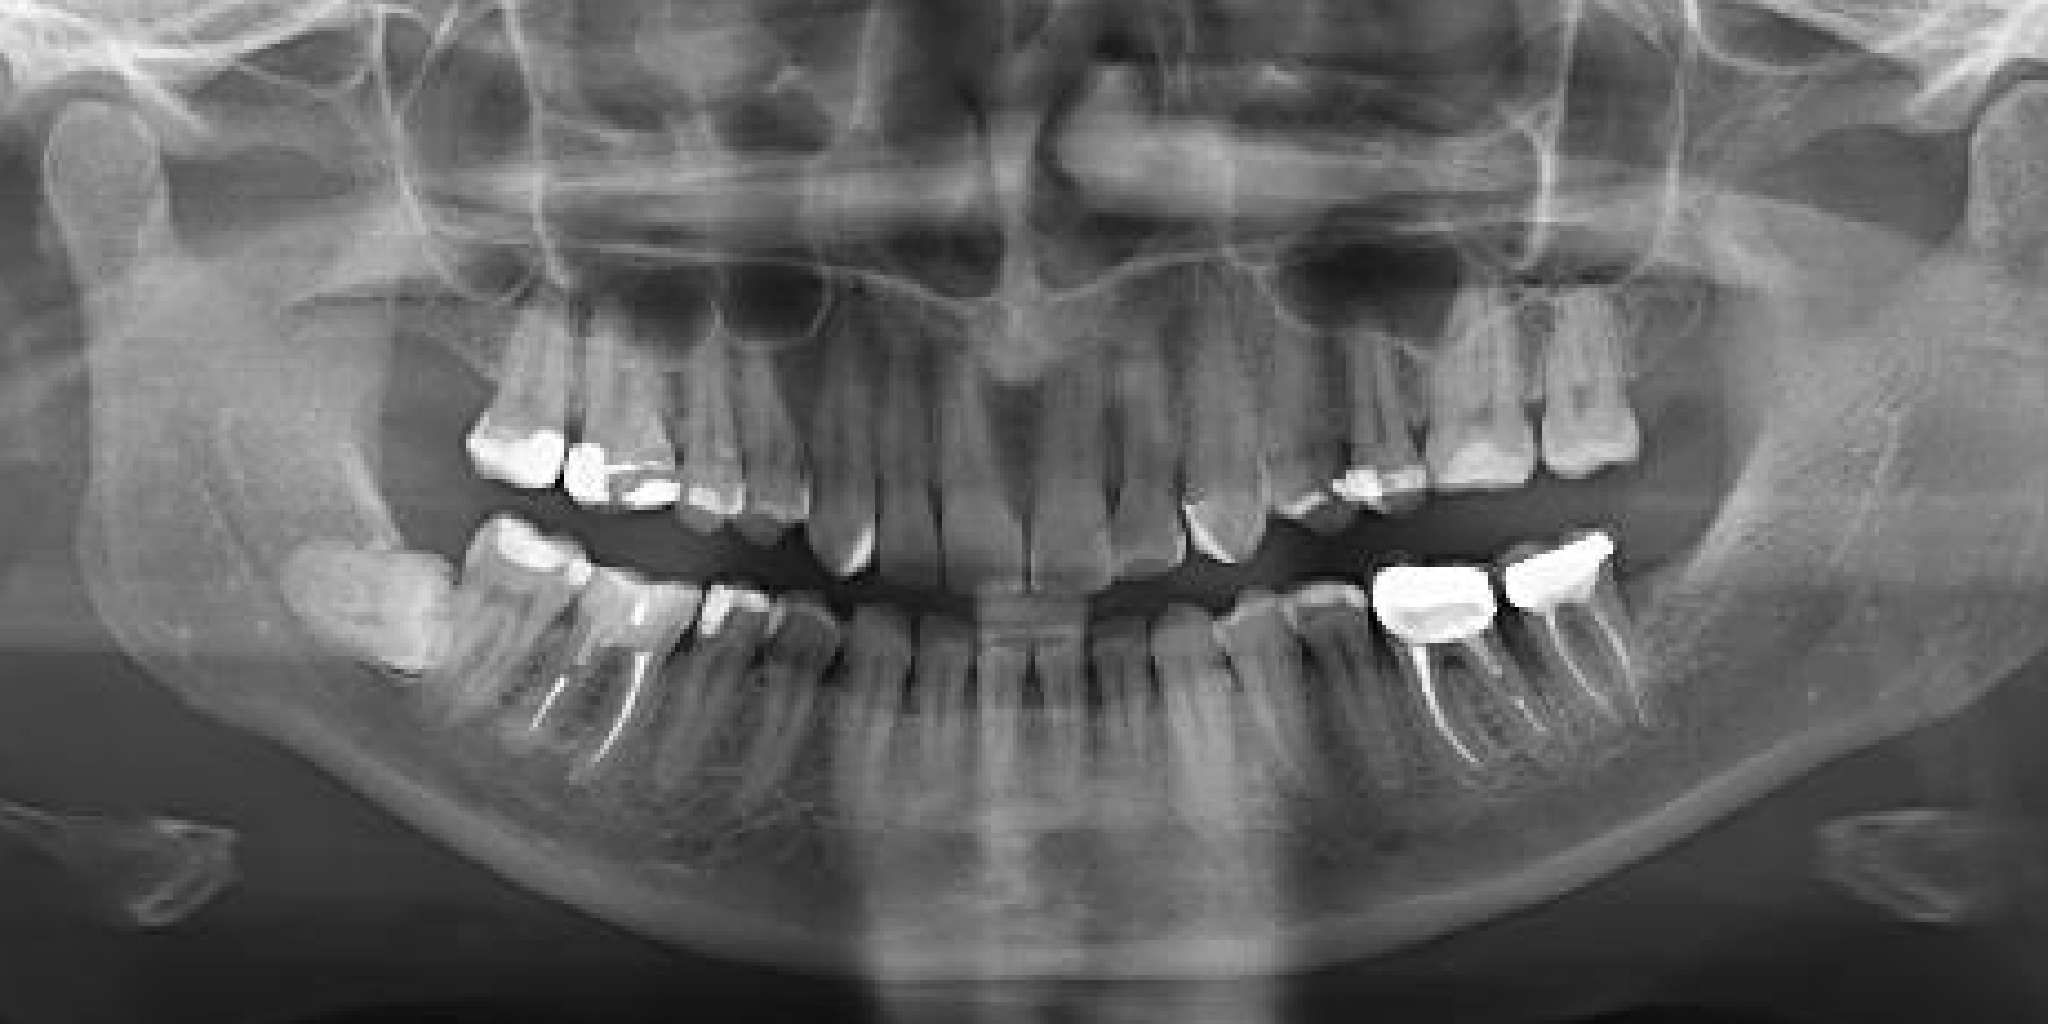Tooth: (472, 517, 731, 805), (1341, 515, 1590, 805), (253, 473, 507, 731), (1479, 499, 1695, 759), (408, 498, 609, 747), (1272, 560, 1445, 825), (1004, 337, 1157, 613), (631, 559, 797, 812), (705, 573, 859, 829), (893, 336, 1038, 607), (1132, 589, 1277, 859), (534, 287, 691, 528), (1153, 283, 1283, 568), (1226, 300, 1369, 551), (1202, 575, 1349, 811), (1415, 270, 1561, 508), (451, 286, 602, 505), (1095, 345, 1213, 593), (784, 298, 886, 581), (1529, 274, 1657, 488), (852, 334, 950, 594), (707, 330, 819, 552), (820, 603, 917, 861), (1319, 324, 1435, 529), (1319, 324, 1435, 529), (662, 312, 761, 536), (891, 615, 977, 822), (1027, 620, 1108, 822), (1091, 609, 1159, 846), (970, 624, 1032, 815)
